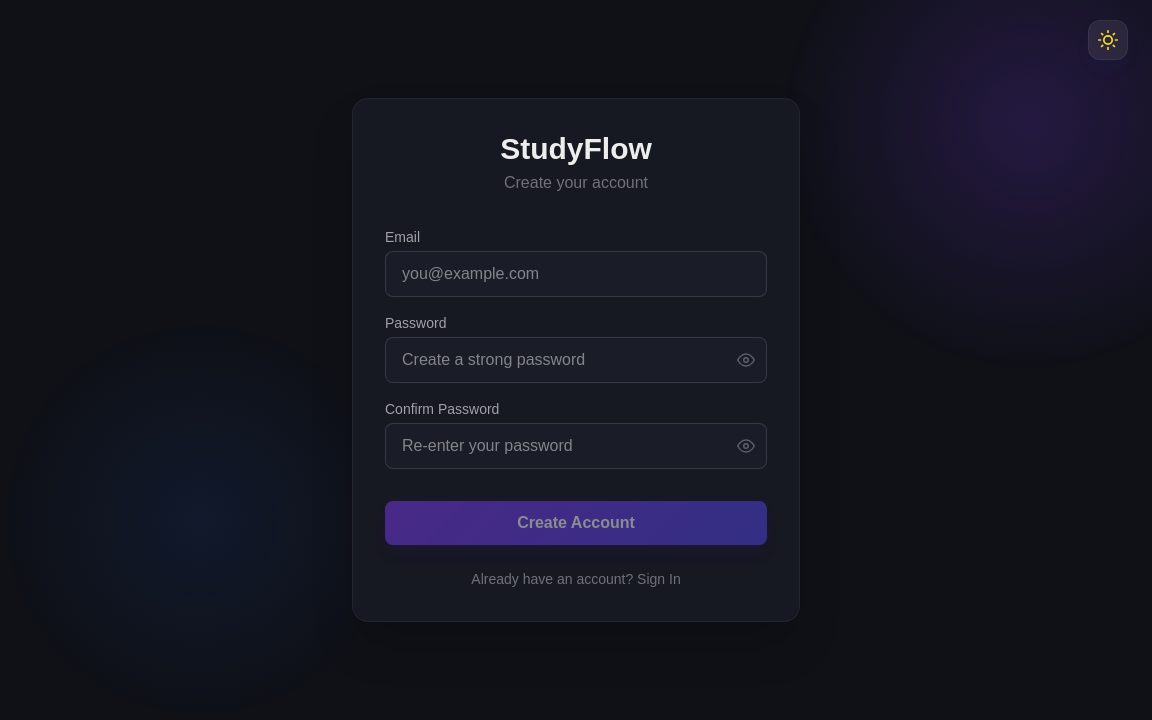
Test: RegisterPage › shows password rule checklist when typing
This screenshot has width=1152, height=720.
Type "a" into the password field with placeholder "Create a strong password".
click(576, 360); type("a")  # box [385,337,767,383]
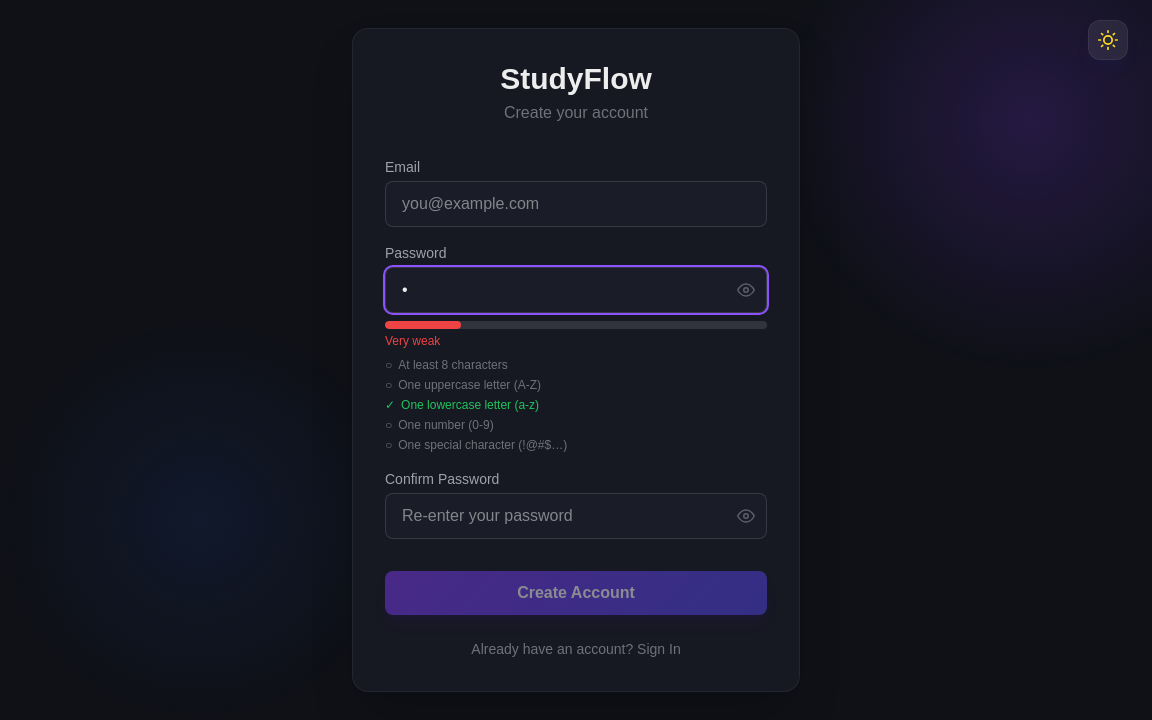
Now the text "At least 8 characters" is shown, box [398,357,508,373]
Now the text "One uppercase letter (A-Z)" is shown, box [398,377,541,393]
